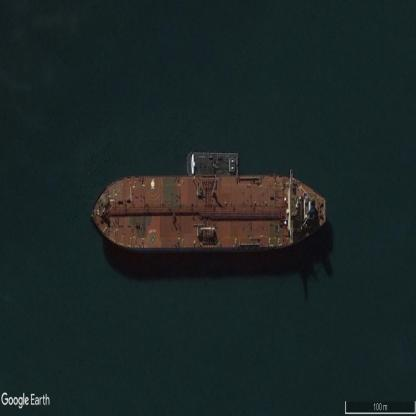ship: (93, 152, 326, 251)
